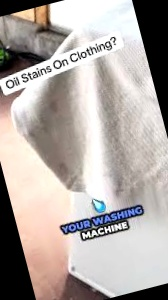oil: (37, 95, 68, 126), (55, 158, 76, 178)
